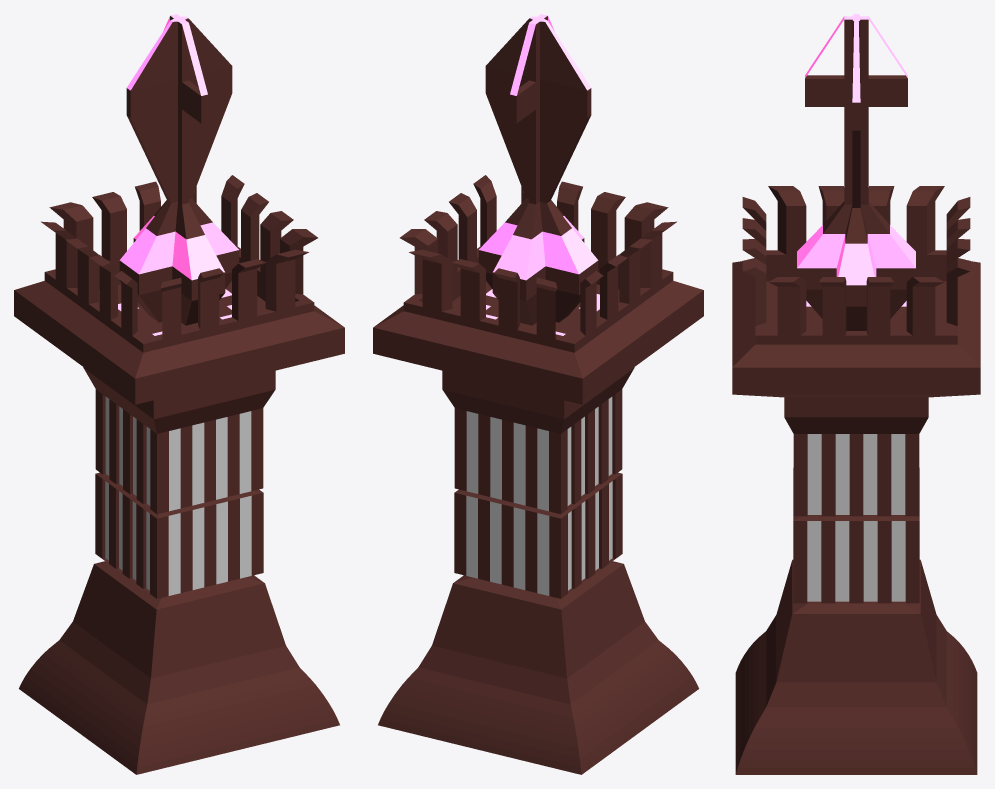
File: EnemyTower.fbx
3 views of the same model, side by side, from view 1: azimuth 30°, elevation 25°; view 2: azimuth 150°, elevation 25°; view 3: azimuth 270°, elevation 25° (orthographic). The views are drawn at different scales.
Visible parts, largest first — view 1: Cube; view 2: Cube; view 3: Cube.
Boxes of the visible parts, x1,y1,x2,y2 form: Cube: (14, 14, 344, 774); Cube: (373, 14, 703, 774); Cube: (732, 14, 980, 774).
Bounding box in the file's own units: 823 × 2579 × 823.
